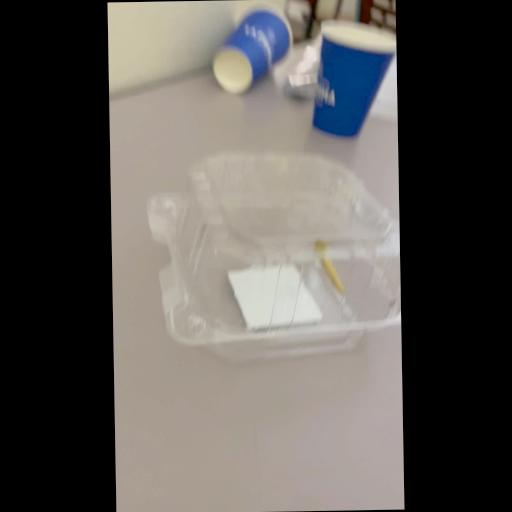lp_paper_cup: (310, 20, 398, 138), (210, 6, 294, 96)
small_plastic_container: (146, 148, 402, 367)
